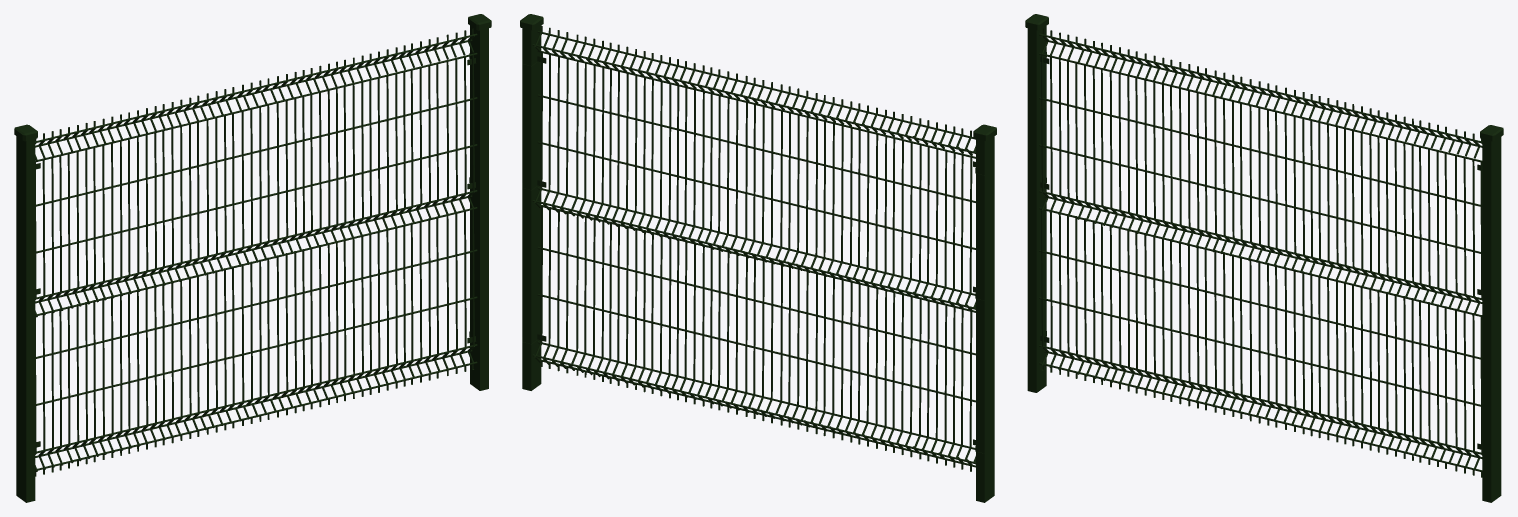
The model's file is fence.fbx.
3 renders of one model, left to right at view 1: azimuth 30°, elevation 25°; view 2: azimuth 150°, elevation 25°; view 3: azimuth 330°, elevation 25°, orthographic.
Visible parts, largest first — view 1: Cylinder.618; view 2: Cylinder.618; view 3: Cylinder.618.
Boxes of the visible parts, bbox=[...] form: Cylinder.618: bbox=[14, 14, 491, 502]; Cylinder.618: bbox=[520, 14, 996, 502]; Cylinder.618: bbox=[1025, 14, 1503, 502].
Bounding box in the file's own units: 36.5 × 27.46 × 1.48.
